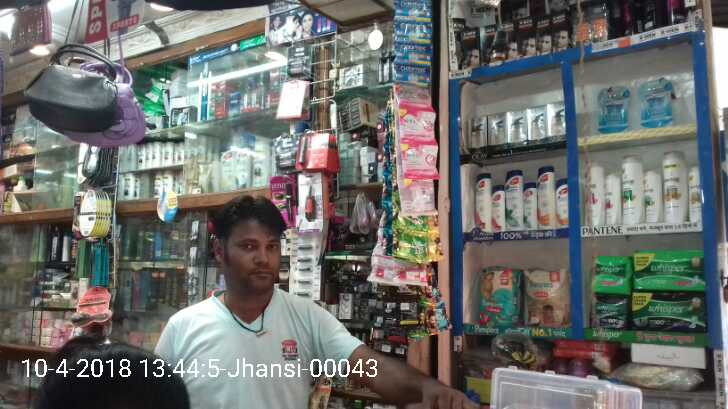venus: (641, 77, 674, 127), (599, 85, 629, 132)
